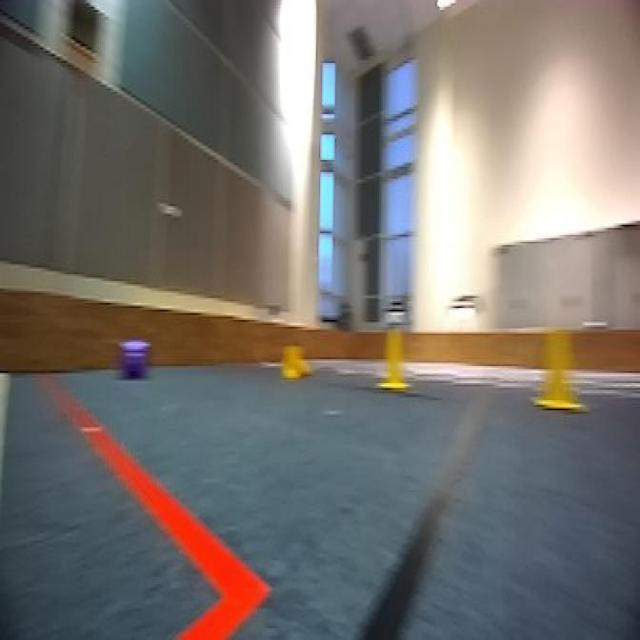frc_cone: (528, 320, 588, 412), (374, 323, 414, 388), (278, 344, 315, 383)
frc_cube: (121, 336, 150, 382)
